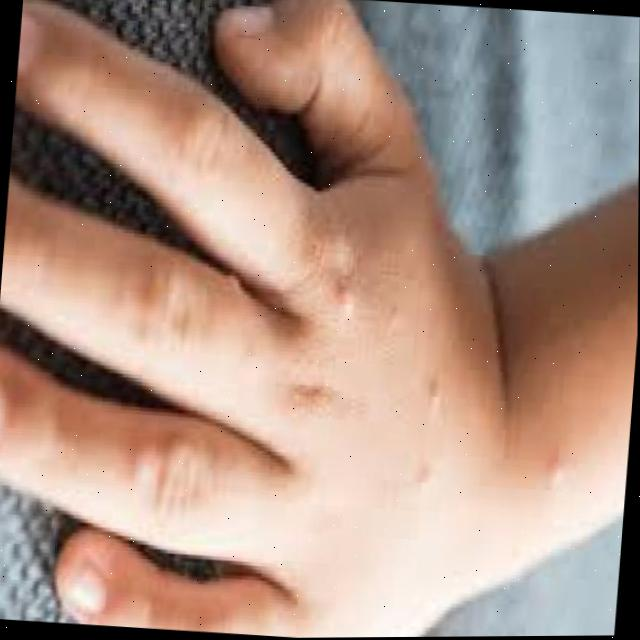Eczema: (404, 367, 461, 417), (427, 445, 443, 488)
